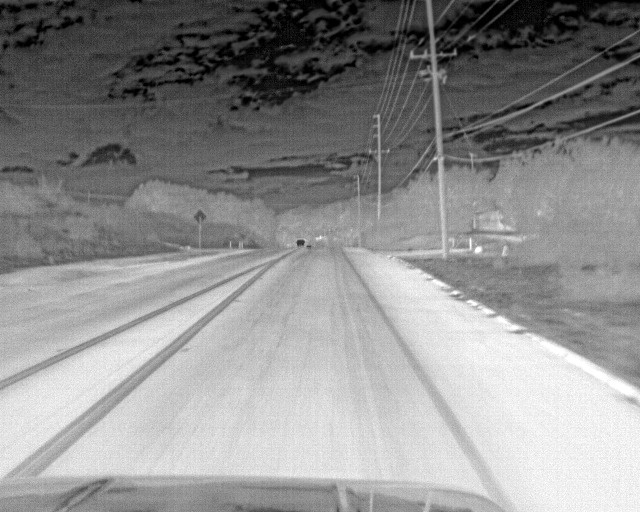car: (292, 232, 313, 251)
